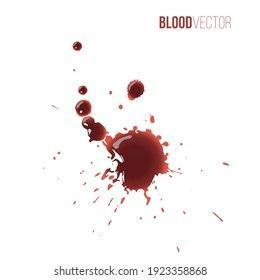Bloodstain-Detection: (114, 136, 156, 189), (79, 111, 112, 147)
